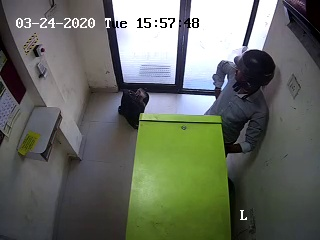helmet: (224, 45, 276, 97)
